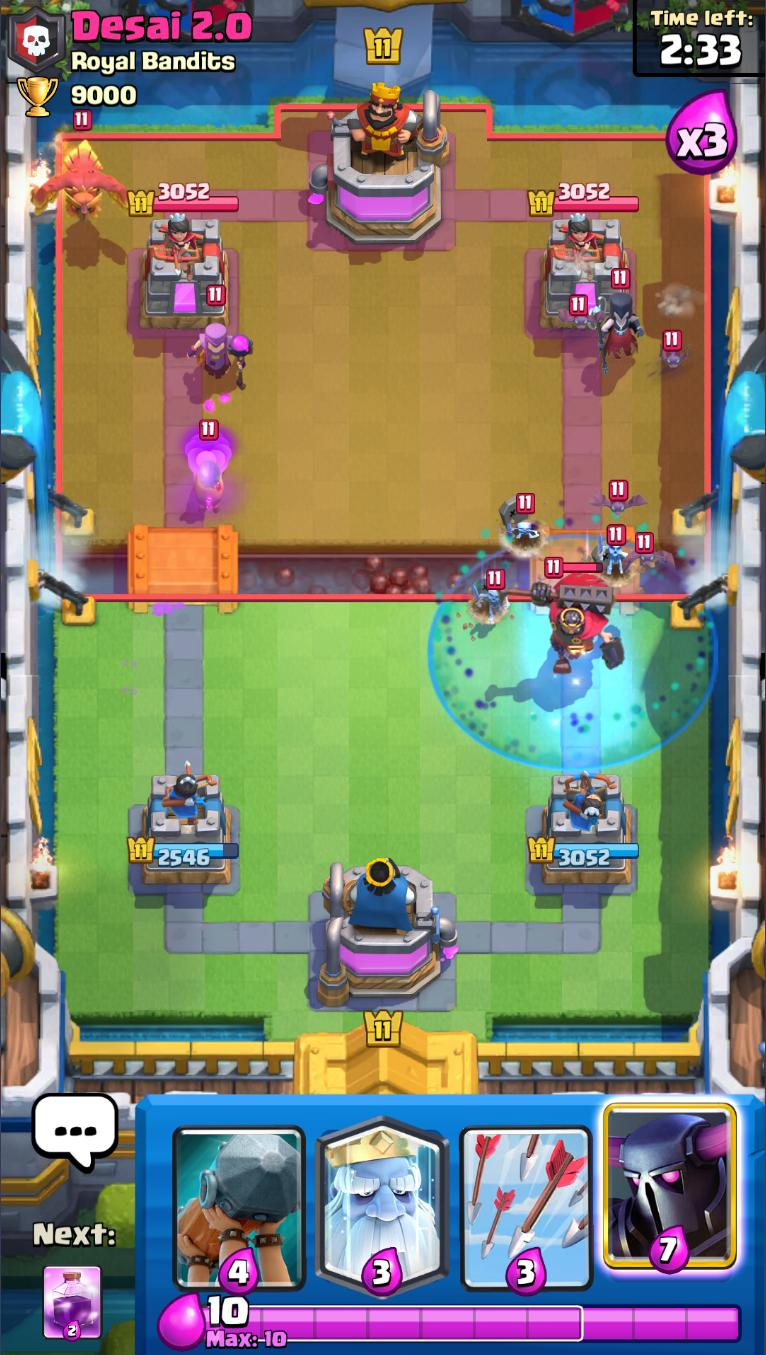ArrowDeck: (455, 1096, 598, 1297)
Bat: (621, 531, 676, 576), (589, 480, 649, 518), (557, 294, 607, 332), (657, 330, 692, 372)
BattleRamDeck: (167, 1095, 311, 1295)
Elixir: (201, 1296, 743, 1350)
EnemyTower: (138, 215, 232, 331), (539, 215, 632, 331)
KingTower: (310, 79, 451, 248)
MotherWitch: (189, 271, 256, 378)
MyKingTower: (314, 857, 459, 1008)
MyPrincessTower: (126, 773, 242, 889), (528, 770, 641, 889)
MyPrincessTowerHP: (125, 836, 241, 870), (527, 835, 641, 868)
NightWitch: (587, 268, 647, 375)
PekkaDeck: (597, 1097, 743, 1297)
Phoenix: (30, 110, 133, 226)
Pig: (186, 419, 232, 517)
PrincessTower: (149, 215, 203, 277), (551, 215, 604, 273)
RageNext: (42, 1262, 102, 1342)
RoyaleGhostDeck: (310, 1095, 457, 1296)
Skeleton: (472, 568, 511, 624), (503, 490, 542, 543), (596, 523, 631, 579)
SkeletonKing: (498, 557, 627, 675)
SkeletonKingAbility: (429, 534, 718, 770)
TowerPrincessHP: (127, 182, 240, 217), (528, 182, 641, 216)
